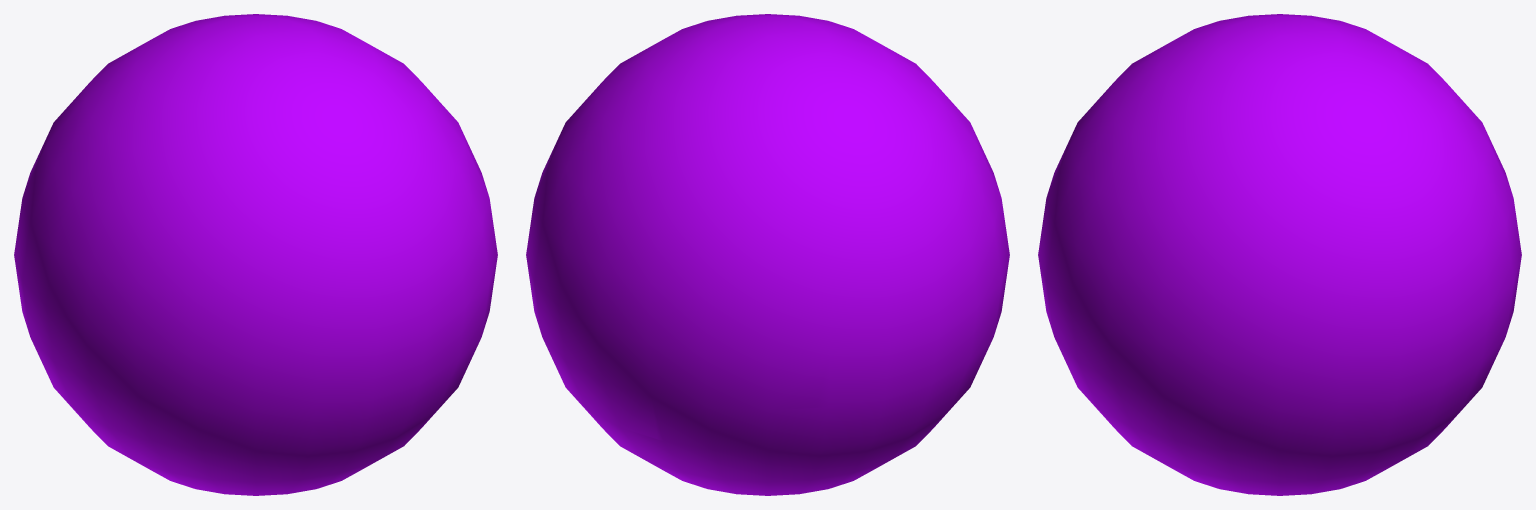
File: gumball-transformed.glb
3 renders of one model, left to right at view 1: azimuth 30°, elevation 25°; view 2: azimuth 150°, elevation 25°; view 3: azimuth 270°, elevation 25°, orthographic.
Parts seen in each view (by area): view 1: SketchUp.132; view 2: SketchUp.132; view 3: SketchUp.132.
Part boxes in pixels (x1,y1,x2,y2): SketchUp.132: (14, 14, 497, 495); SketchUp.132: (526, 14, 1009, 495); SketchUp.132: (1038, 14, 1521, 495).
Bounding box in the file's own units: 0.0381 × 0.0381 × 0.0381.
